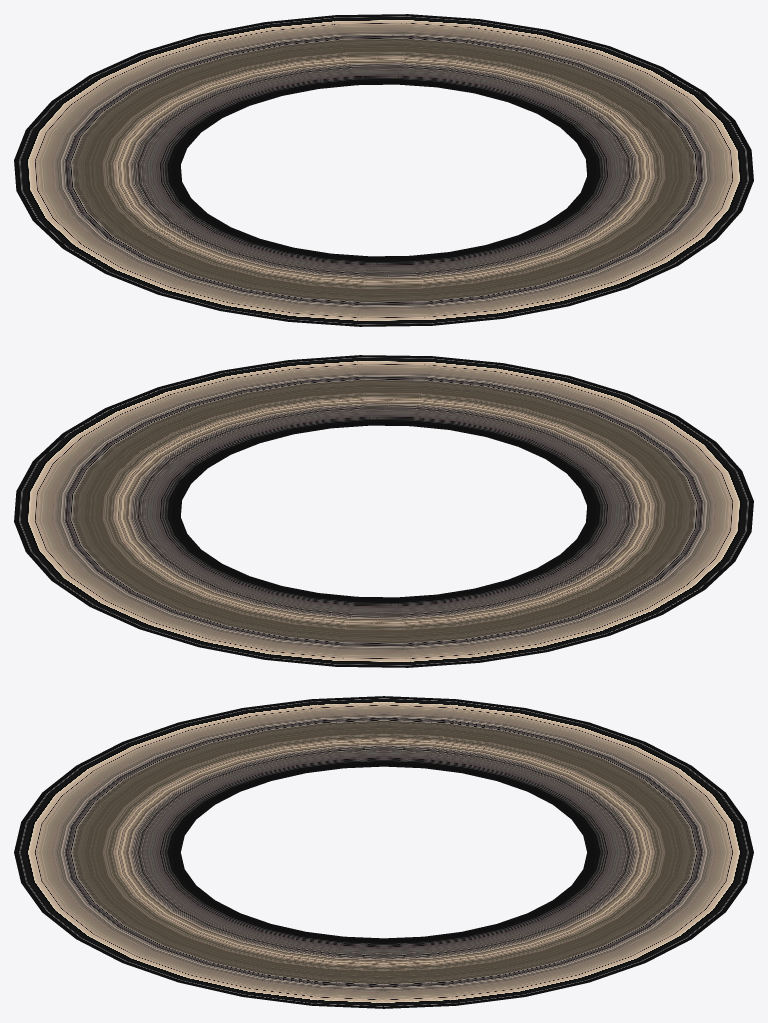
Rendered from saturn_ring.obj.
3 views of the same model, one above another, from view 1: azimuth 30°, elevation 25°; view 2: azimuth 150°, elevation 25°; view 3: azimuth 270°, elevation 25° (orthographic).
Parts seen in each view (by area): view 1: Circle; view 2: Circle; view 3: Circle.
Boxes of the visible parts, left/top/right/bottom form: Circle: left=14, top=14, right=753, bottom=326; Circle: left=14, top=355, right=753, bottom=667; Circle: left=14, top=696, right=753, bottom=1008.
Bounding box in the file's own units: 18.21 × 0 × 18.21.
